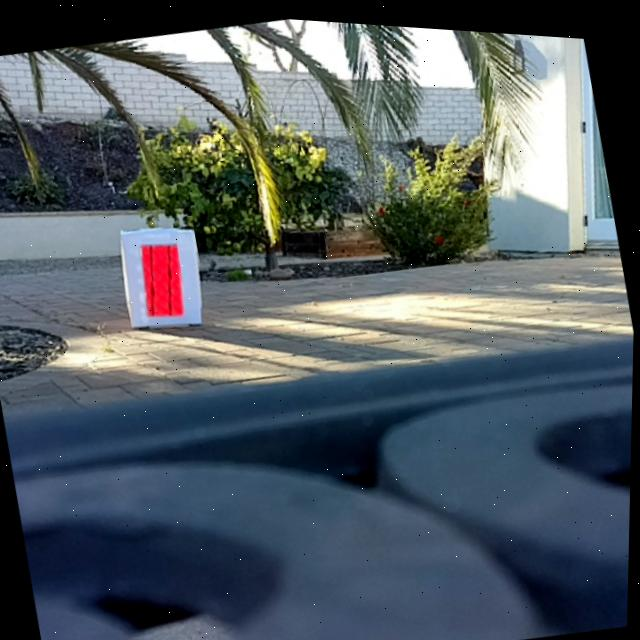led: (139, 237, 191, 322)
